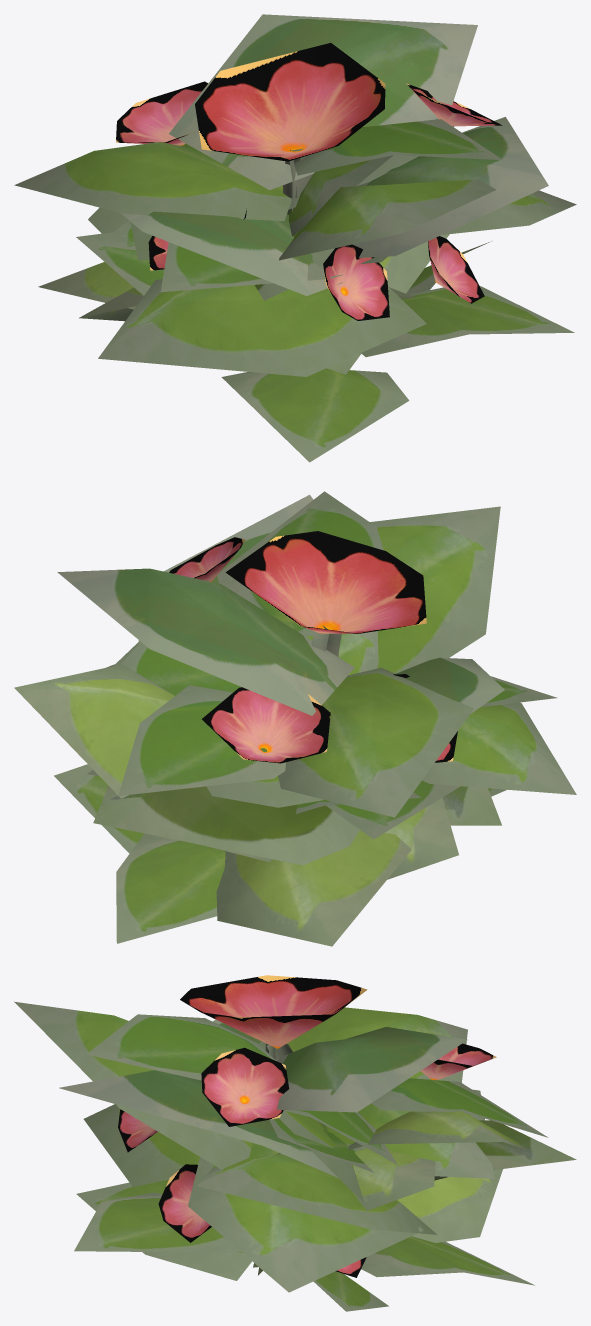
Rendered from SM_Flower_03.fbx.
3 renders of one model, top to bottom at view 1: azimuth 30°, elevation 25°; view 2: azimuth 150°, elevation 25°; view 3: azimuth 270°, elevation 25°, orthographic. The views are drawn at different scales.
Visible parts, largest first — view 1: SM_Flower_03; view 2: SM_Flower_03; view 3: SM_Flower_03.
Part boxes in pixels (x1,y1,x2,y2): SM_Flower_03: [14, 14, 576, 462]; SM_Flower_03: [14, 491, 576, 946]; SM_Flower_03: [14, 975, 576, 1311].
Bounding box in the file's own units: 18.24 × 18.88 × 10.64.
Materials: 1 (1 with a texture image).
